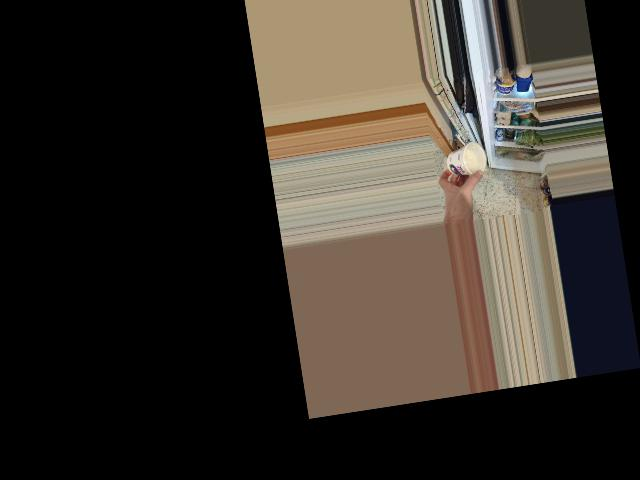cotage: (442, 141, 488, 183)
